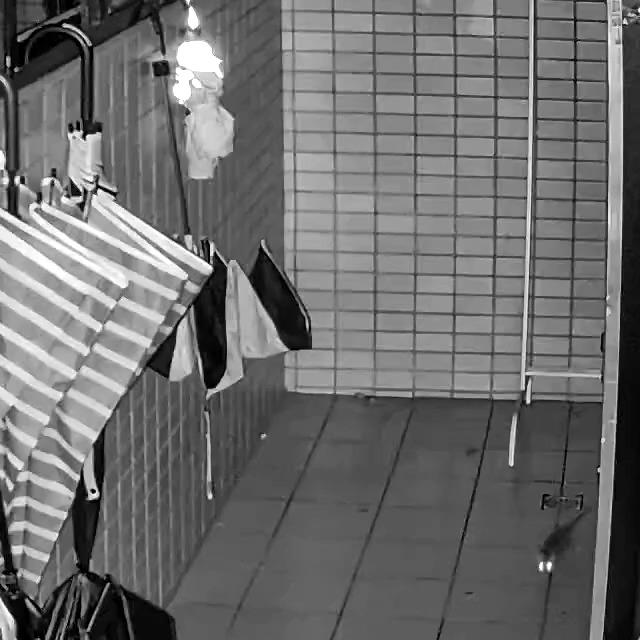rat: (534, 507, 592, 576)
